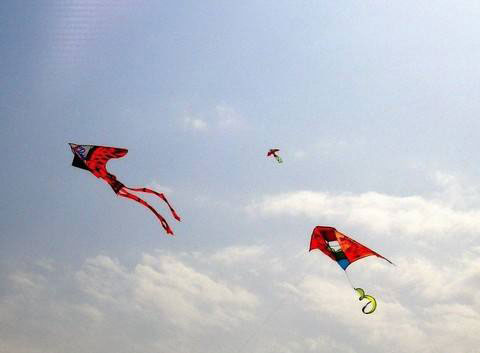kite: (67, 141, 182, 238), (307, 224, 397, 316), (264, 147, 287, 168)
